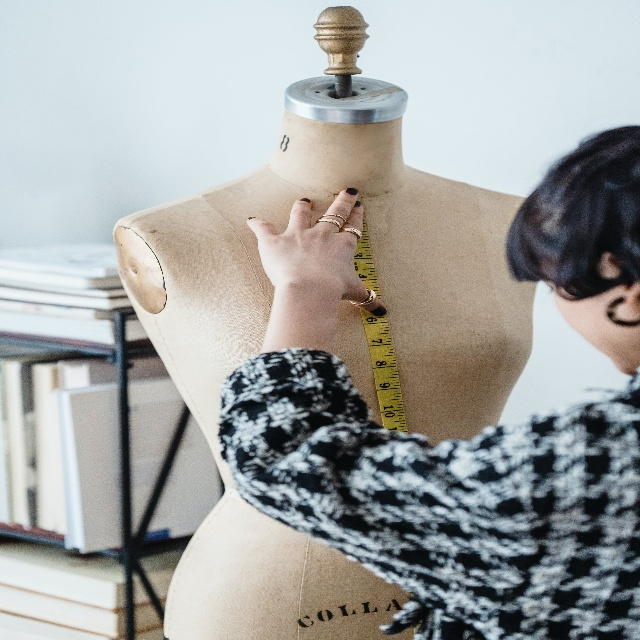Sin_guantes: (247, 187, 387, 317)
